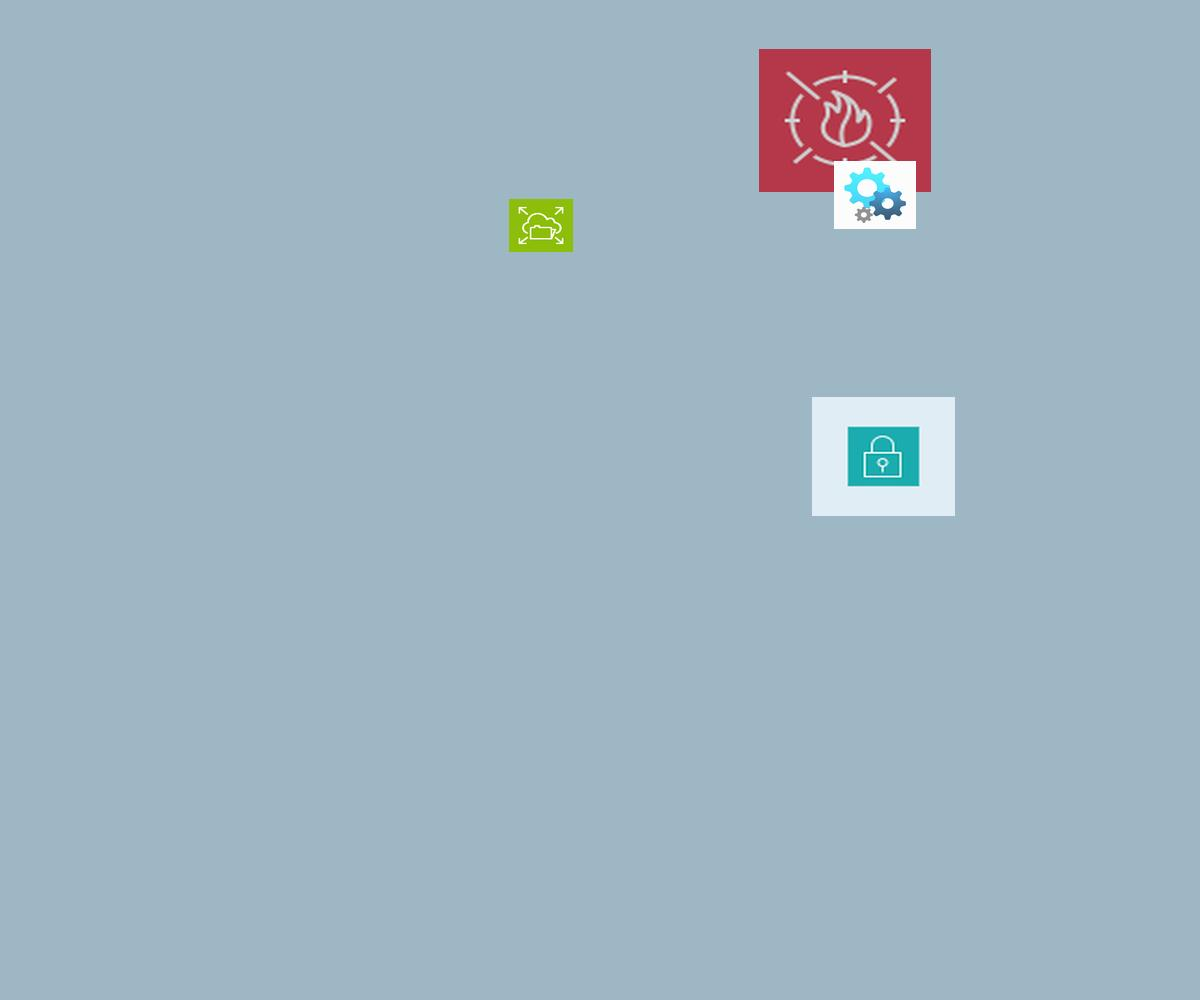AWS-EFS: (509, 199, 573, 252)
AWS-Private-subnet: (812, 397, 955, 516)
AWS-WAF: (759, 49, 931, 192)
Azure_api: (834, 161, 916, 229)
